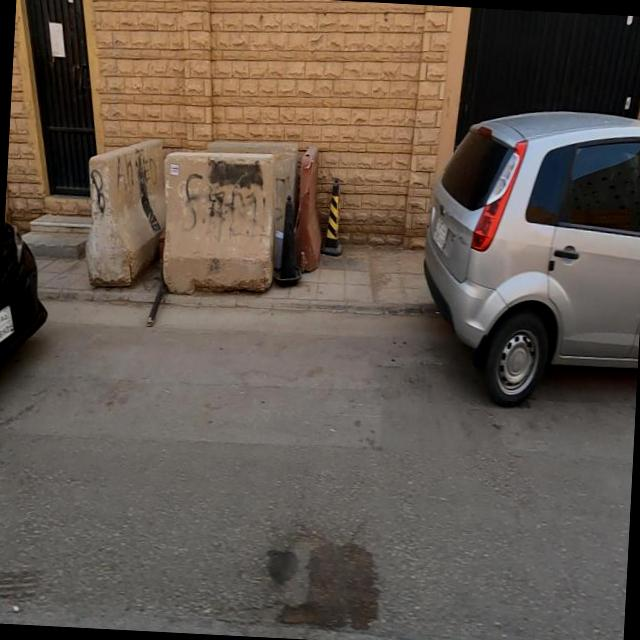debris: (126, 98, 334, 328)
